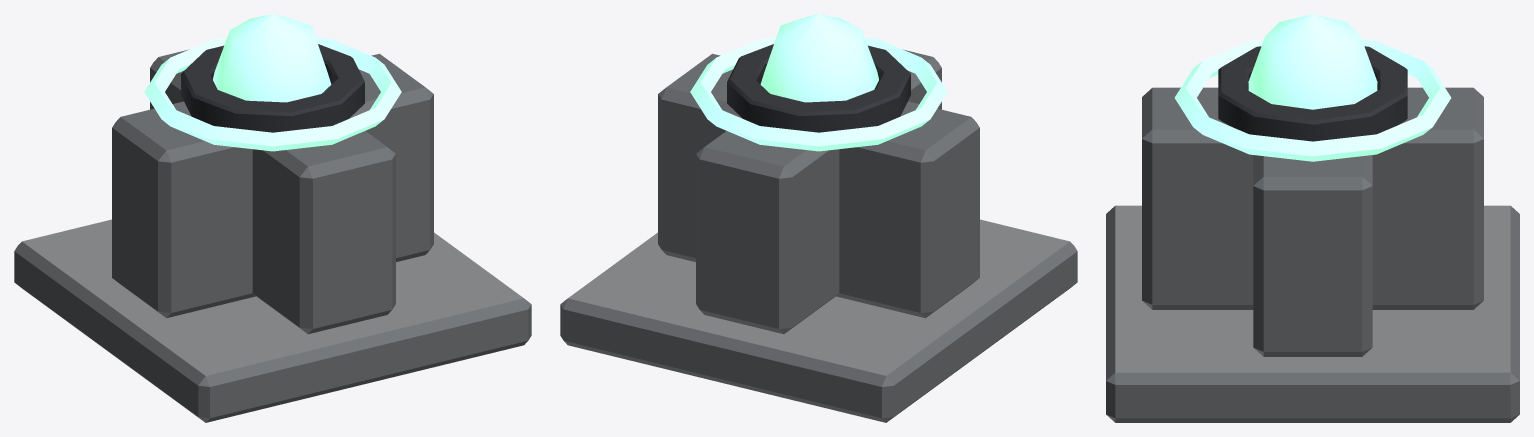
The model's file is R4X_RepairPulse_LOD1.glb.
The picture shows the model from 3 angles, left to right: view 1: azimuth 30°, elevation 25°; view 2: azimuth 150°, elevation 25°; view 3: azimuth 270°, elevation 25°; orthographic projection. The views are drawn at different scales.
Parts seen in each view (by area): view 1: R4X_RepairPulse_LOD1; view 2: R4X_RepairPulse_LOD1; view 3: R4X_RepairPulse_LOD1.
Part boxes in pixels (x1=…): R4X_RepairPulse_LOD1: x1=14, y1=14, x2=531, y2=422; R4X_RepairPulse_LOD1: x1=560, y1=14, x2=1077, y2=422; R4X_RepairPulse_LOD1: x1=1106, y1=14, x2=1519, y2=422.
Bounding box in the file's own units: 0.52 × 0.4512 × 0.52.
